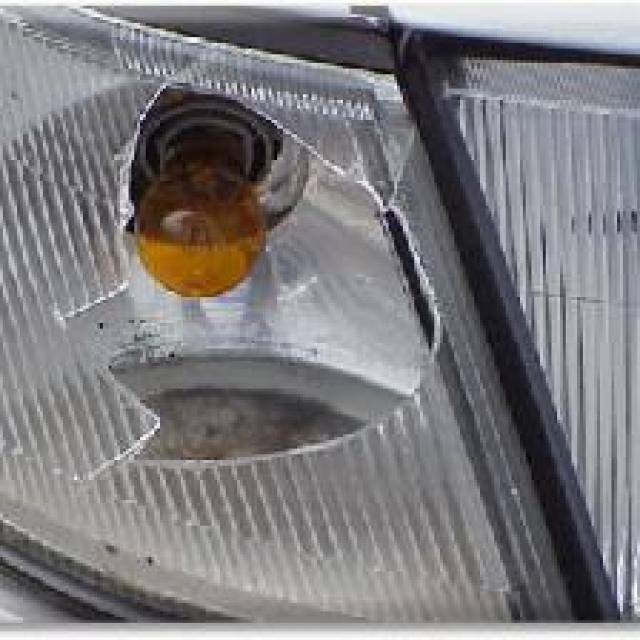damaged: (48, 80, 446, 474)
